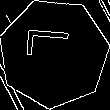L_E: (27, 36, 81, 71)
